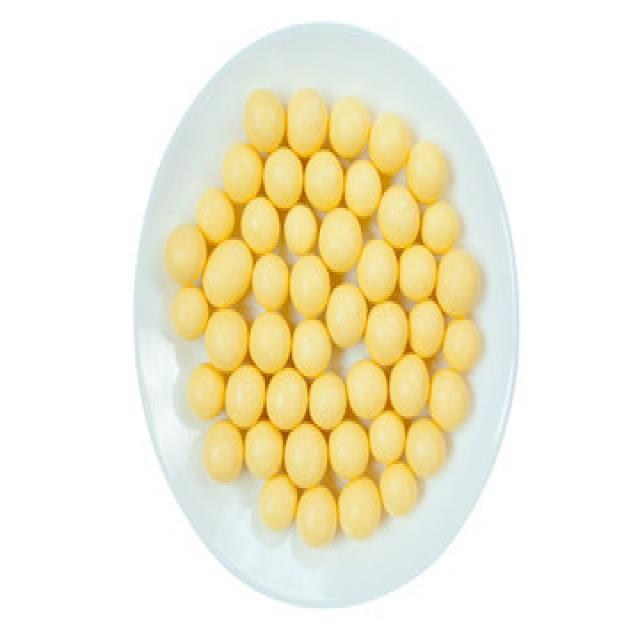Chocolate: (163, 85, 492, 549)
